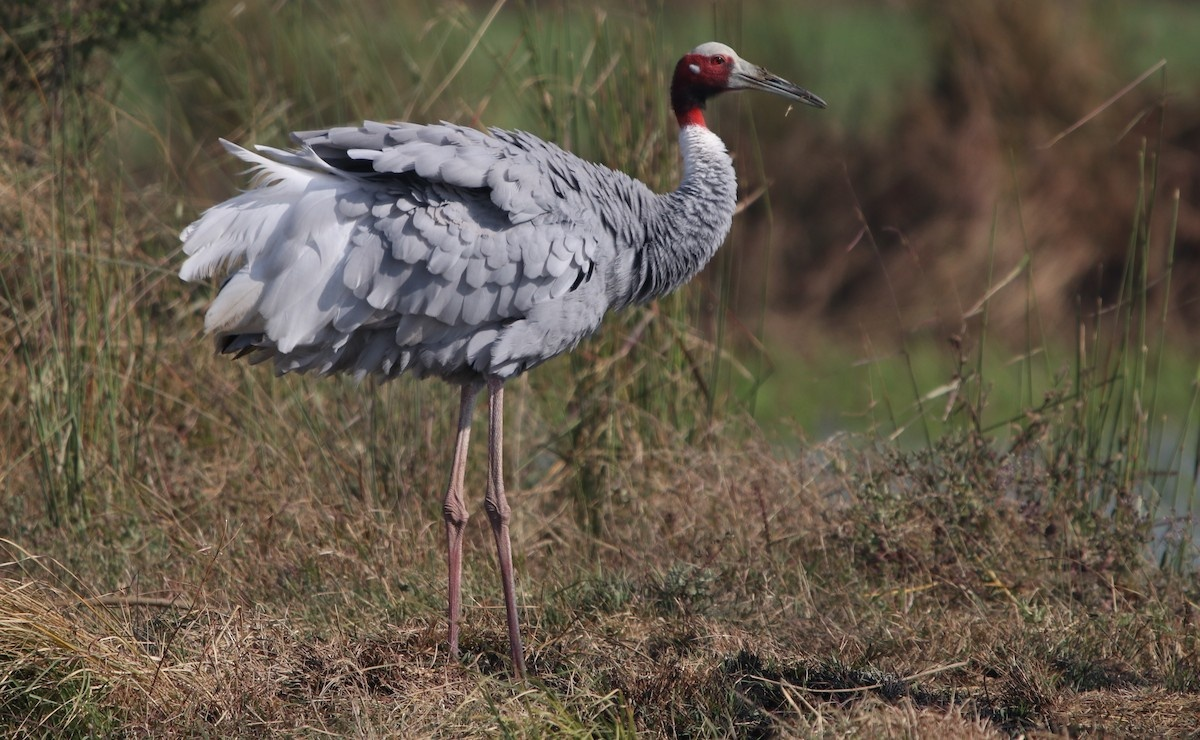crane: (228, 40, 853, 675)
